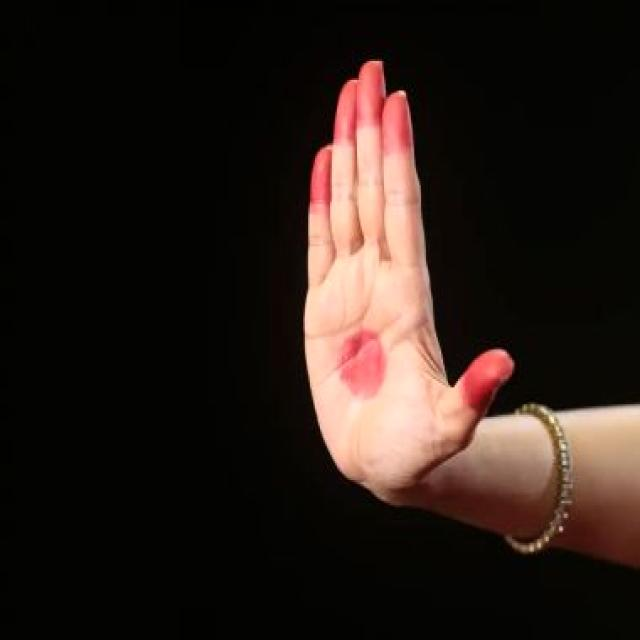Ardhachandra: (271, 21, 538, 562)
